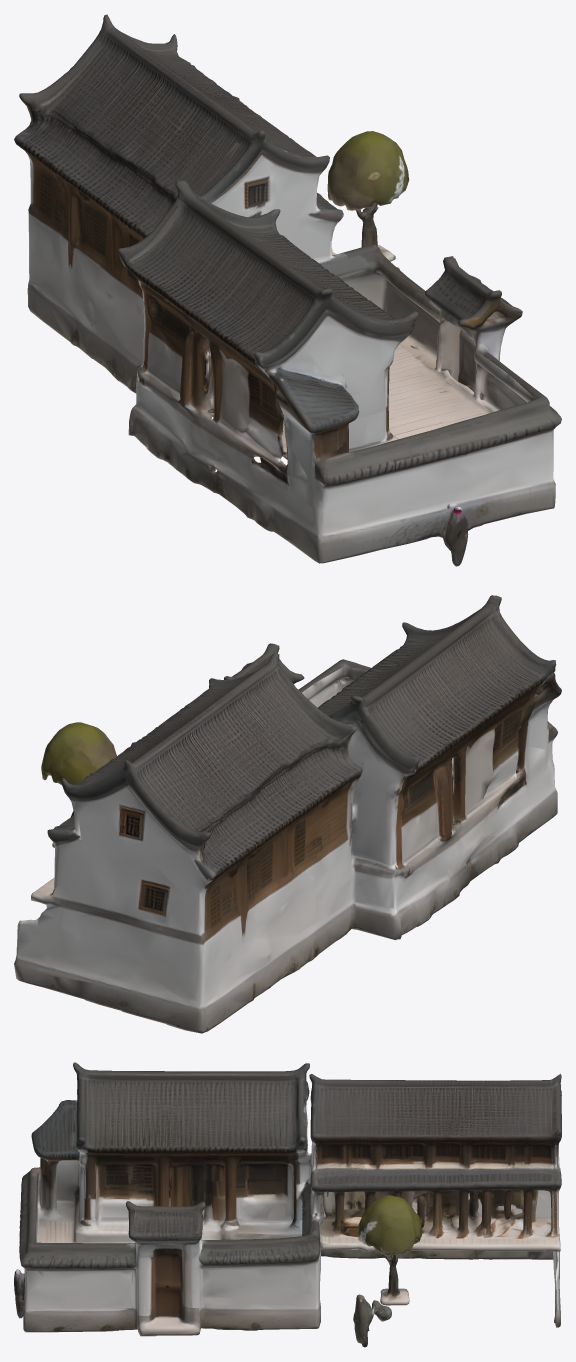
The picture shows the model from 3 angles, top to bottom: view 1: azimuth 30°, elevation 25°; view 2: azimuth 150°, elevation 25°; view 3: azimuth 270°, elevation 25°; orthographic projection. The views are drawn at different scales.
Visible parts, largest first — view 1: material.001; view 2: material.001; view 3: material.001.
Boxes of the visible parts, <box> form: material.001: <box>14,14,561,566</box>; material.001: <box>14,595,561,1033</box>; material.001: <box>14,1062,561,1347</box>.
Bounding box in the file's own units: 0.6073 × 0.5085 × 1.05.
Materials: 1 (1 with a texture image).
